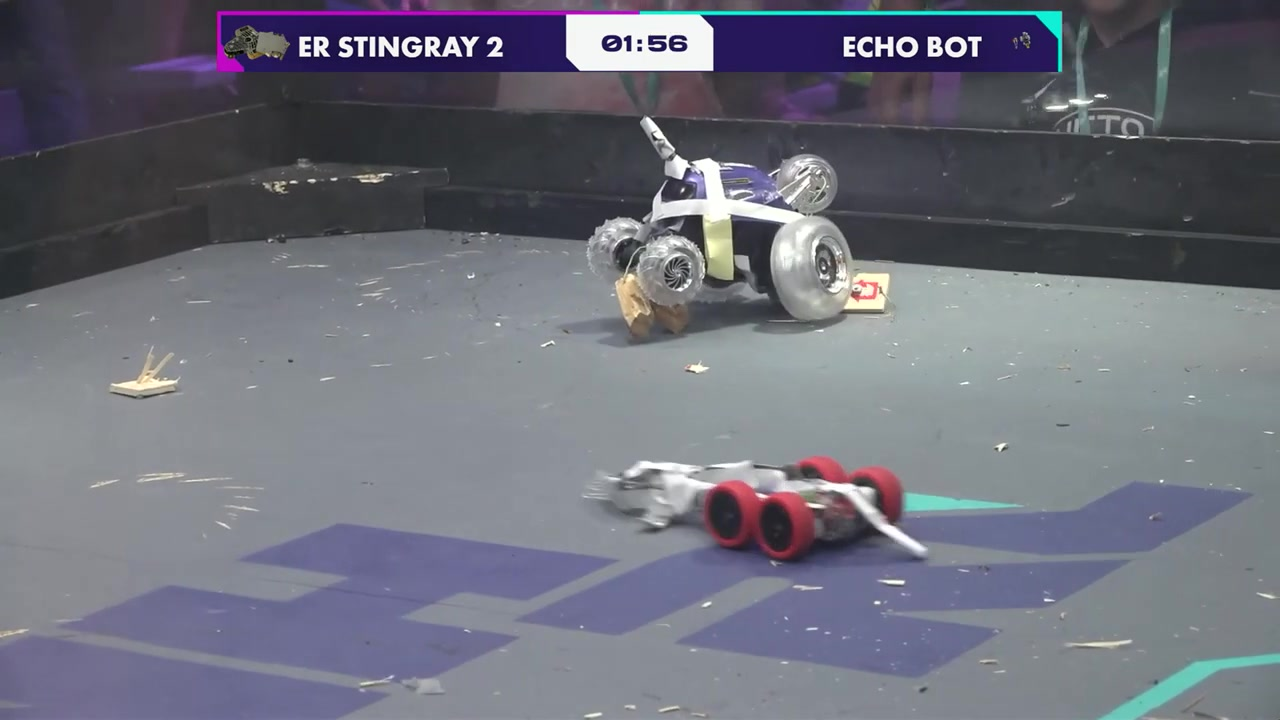combatbot: (590, 116, 889, 346), (582, 457, 925, 565)
debris: (109, 349, 179, 398)
